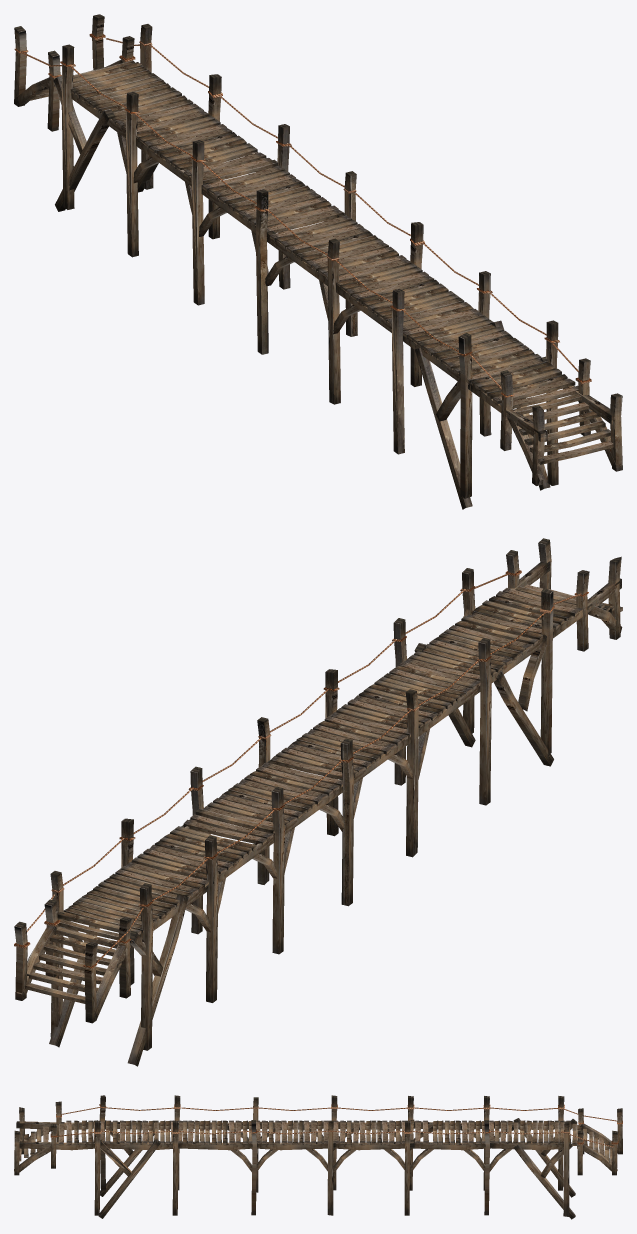
File: building_bridge_wooden.glb
3 renders of one model, top to bottom at view 1: azimuth 30°, elevation 25°; view 2: azimuth 150°, elevation 25°; view 3: azimuth 270°, elevation 25°, orthographic. The views are drawn at different scales.
Visible parts, largest first — view 1: building_bridge_wooden; view 2: building_bridge_wooden; view 3: building_bridge_wooden.
Boxes of the visible parts, box(x1,y1,x2,y2) form: building_bridge_wooden: box(14, 14, 622, 509); building_bridge_wooden: box(14, 538, 622, 1066); building_bridge_wooden: box(14, 1095, 622, 1219).
Bounding box in the file's own units: 4.82 × 8.37 × 46.15.
2 materials, 2 textured.
